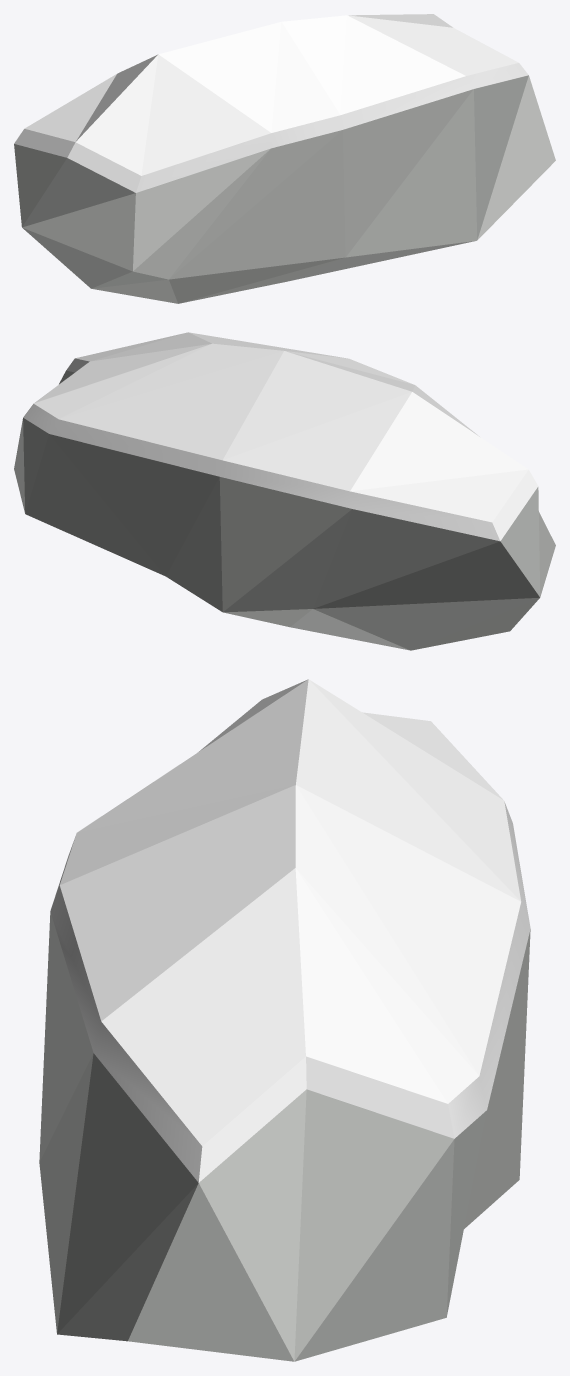
File: Rock_Light_Snow_4.fbx
3 renders of one model, top to bottom at view 1: azimuth 30°, elevation 25°; view 2: azimuth 150°, elevation 25°; view 3: azimuth 270°, elevation 25°, orthographic. The views are drawn at different scales.
Visible parts, largest first — view 1: Rock_Light_Snow_4; view 2: Rock_Light_Snow_4; view 3: Rock_Light_Snow_4.
Part boxes in pixels (x1=…): Rock_Light_Snow_4: x1=14, y1=14, x2=555, y2=303; Rock_Light_Snow_4: x1=14, y1=332, x2=555, y2=650; Rock_Light_Snow_4: x1=39, y1=679, x2=530, y2=1361.
Size of the model in its own units: 4.1 by 2.04 by 1.77.
